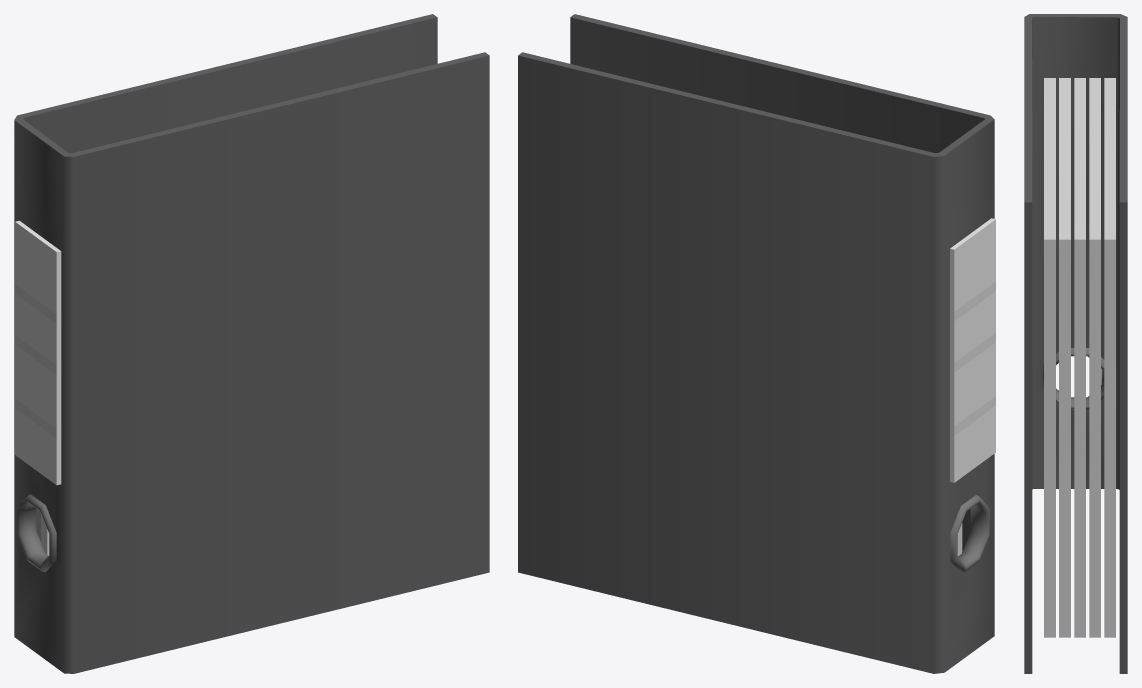
3 renders of one model, left to right at view 1: azimuth 30°, elevation 25°; view 2: azimuth 150°, elevation 25°; view 3: azimuth 270°, elevation 25°, orthographic. The views are drawn at different scales.
Parts seen in each view (by area): view 1: File05; view 2: File05; view 3: File05.
Boxes of the visible parts, x1=… form: File05: x1=14, y1=14, x2=489, y2=673; File05: x1=518, y1=14, x2=995, y2=673; File05: x1=1024, y1=14, x2=1127, y2=673.
Size of the model in its own units: 0.2735 by 0.0628 by 0.3161.
